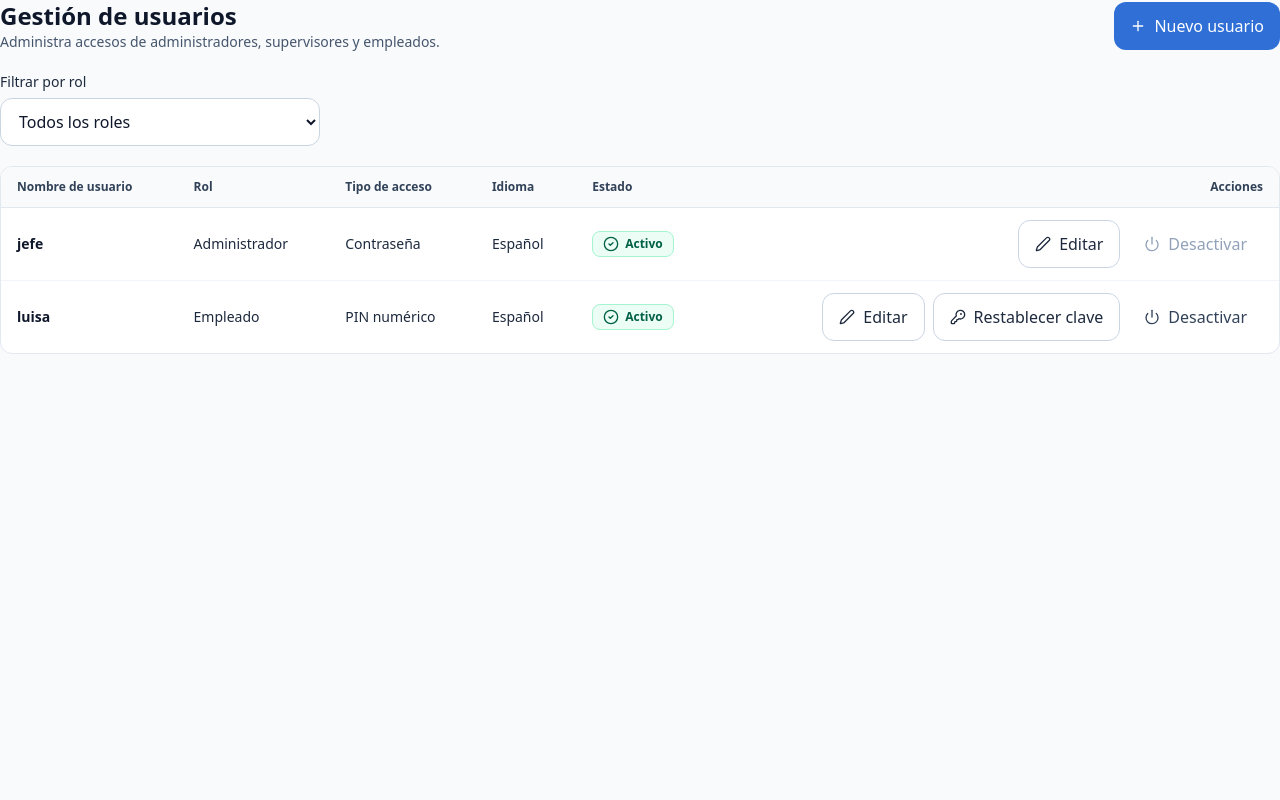
Scenario: UsuariosPage › bloquea la desactivación de la propia cuenta del administrador
The width and height of the screenshot is (1280, 800).
Expected: the button "Desactivar" in the row of "jefe" is disabled, [1128,220,1263,268]
Expected: the button "Desactivar" in the row of "luisa" is enabled, [1128,293,1263,341]
Click the button "Nuevo usuario" at x=1197, y=26, box [1114,2,1279,50]
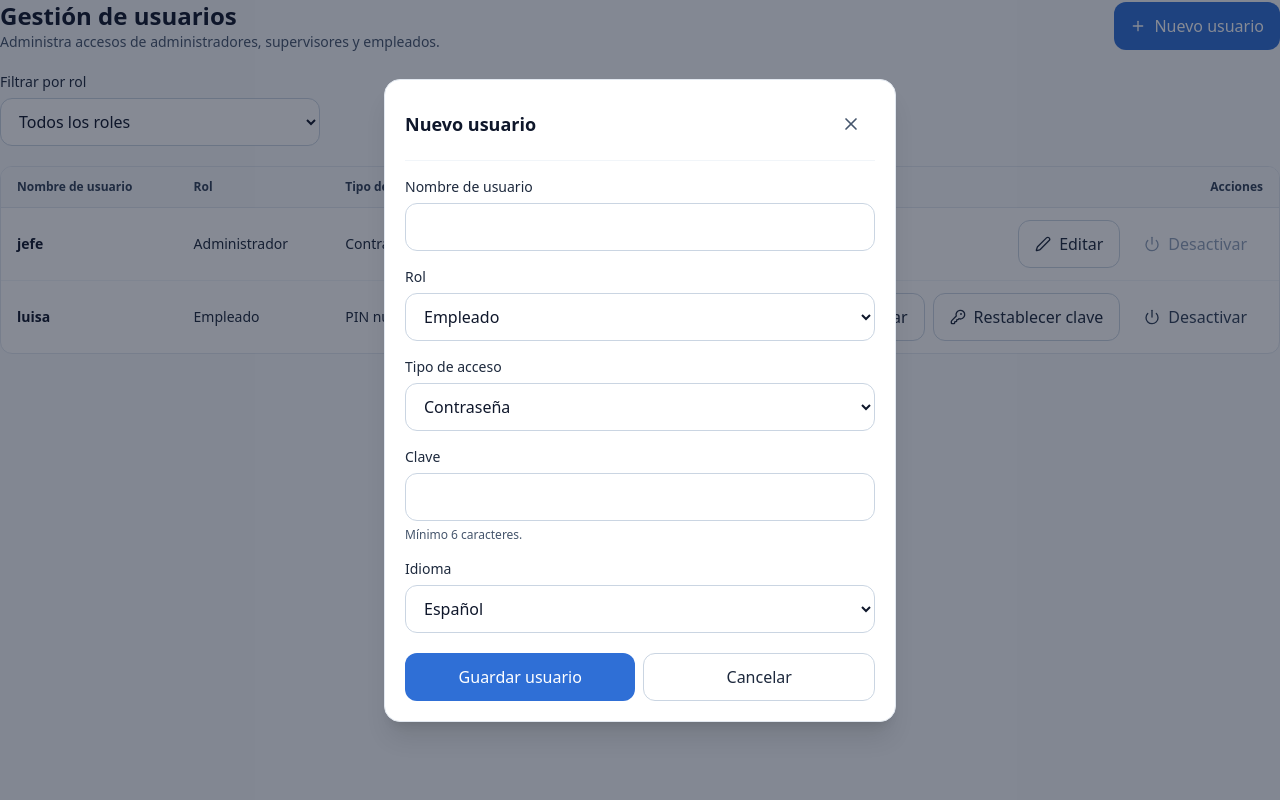
Expected: the dialog is shown
